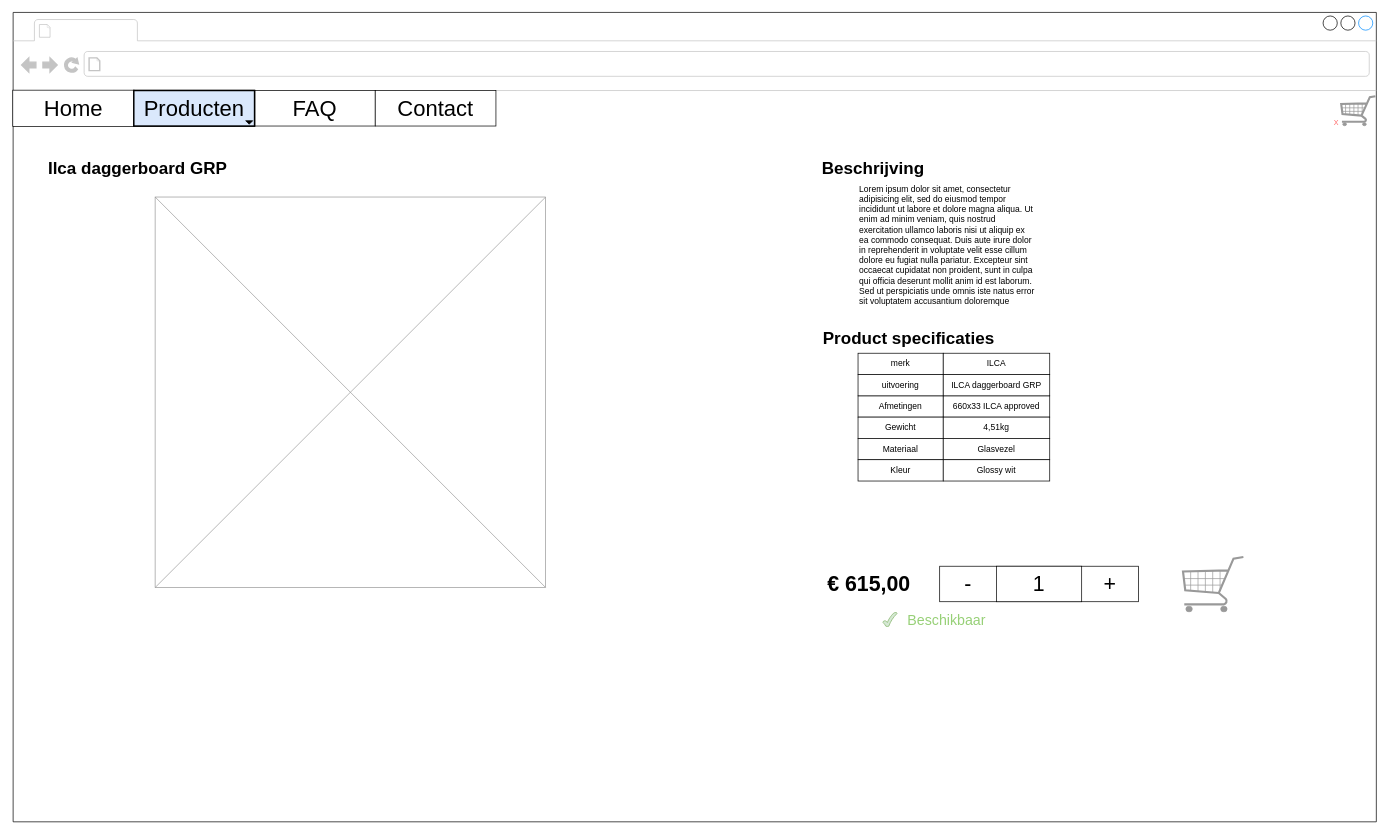
Image size: 1389x834. Some labels were removed from this diagram. Each missing label, with the centre of its shape:
"Foto van product" belongs at point (350, 392).
"https://www.Zeilboten.be/Ilca_daggerboard_GRP" belongs at point (382, 63).
"ILCA Daggerboard" belongs at point (94, 29).
